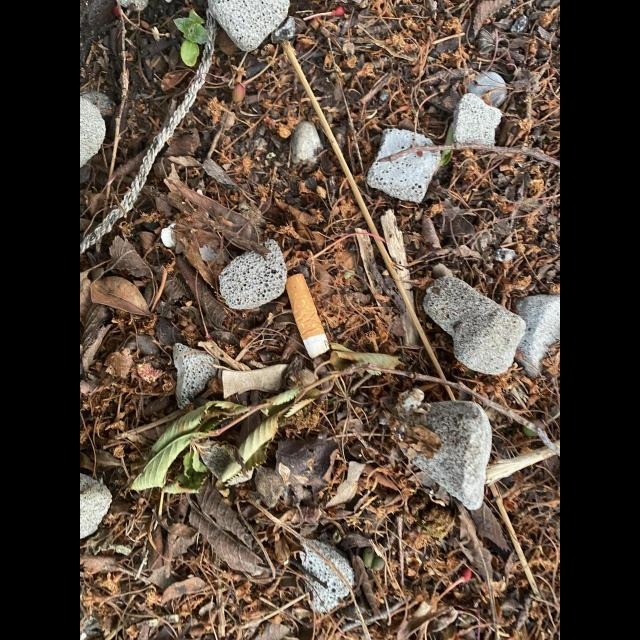cigarette: (285, 273, 330, 359)
